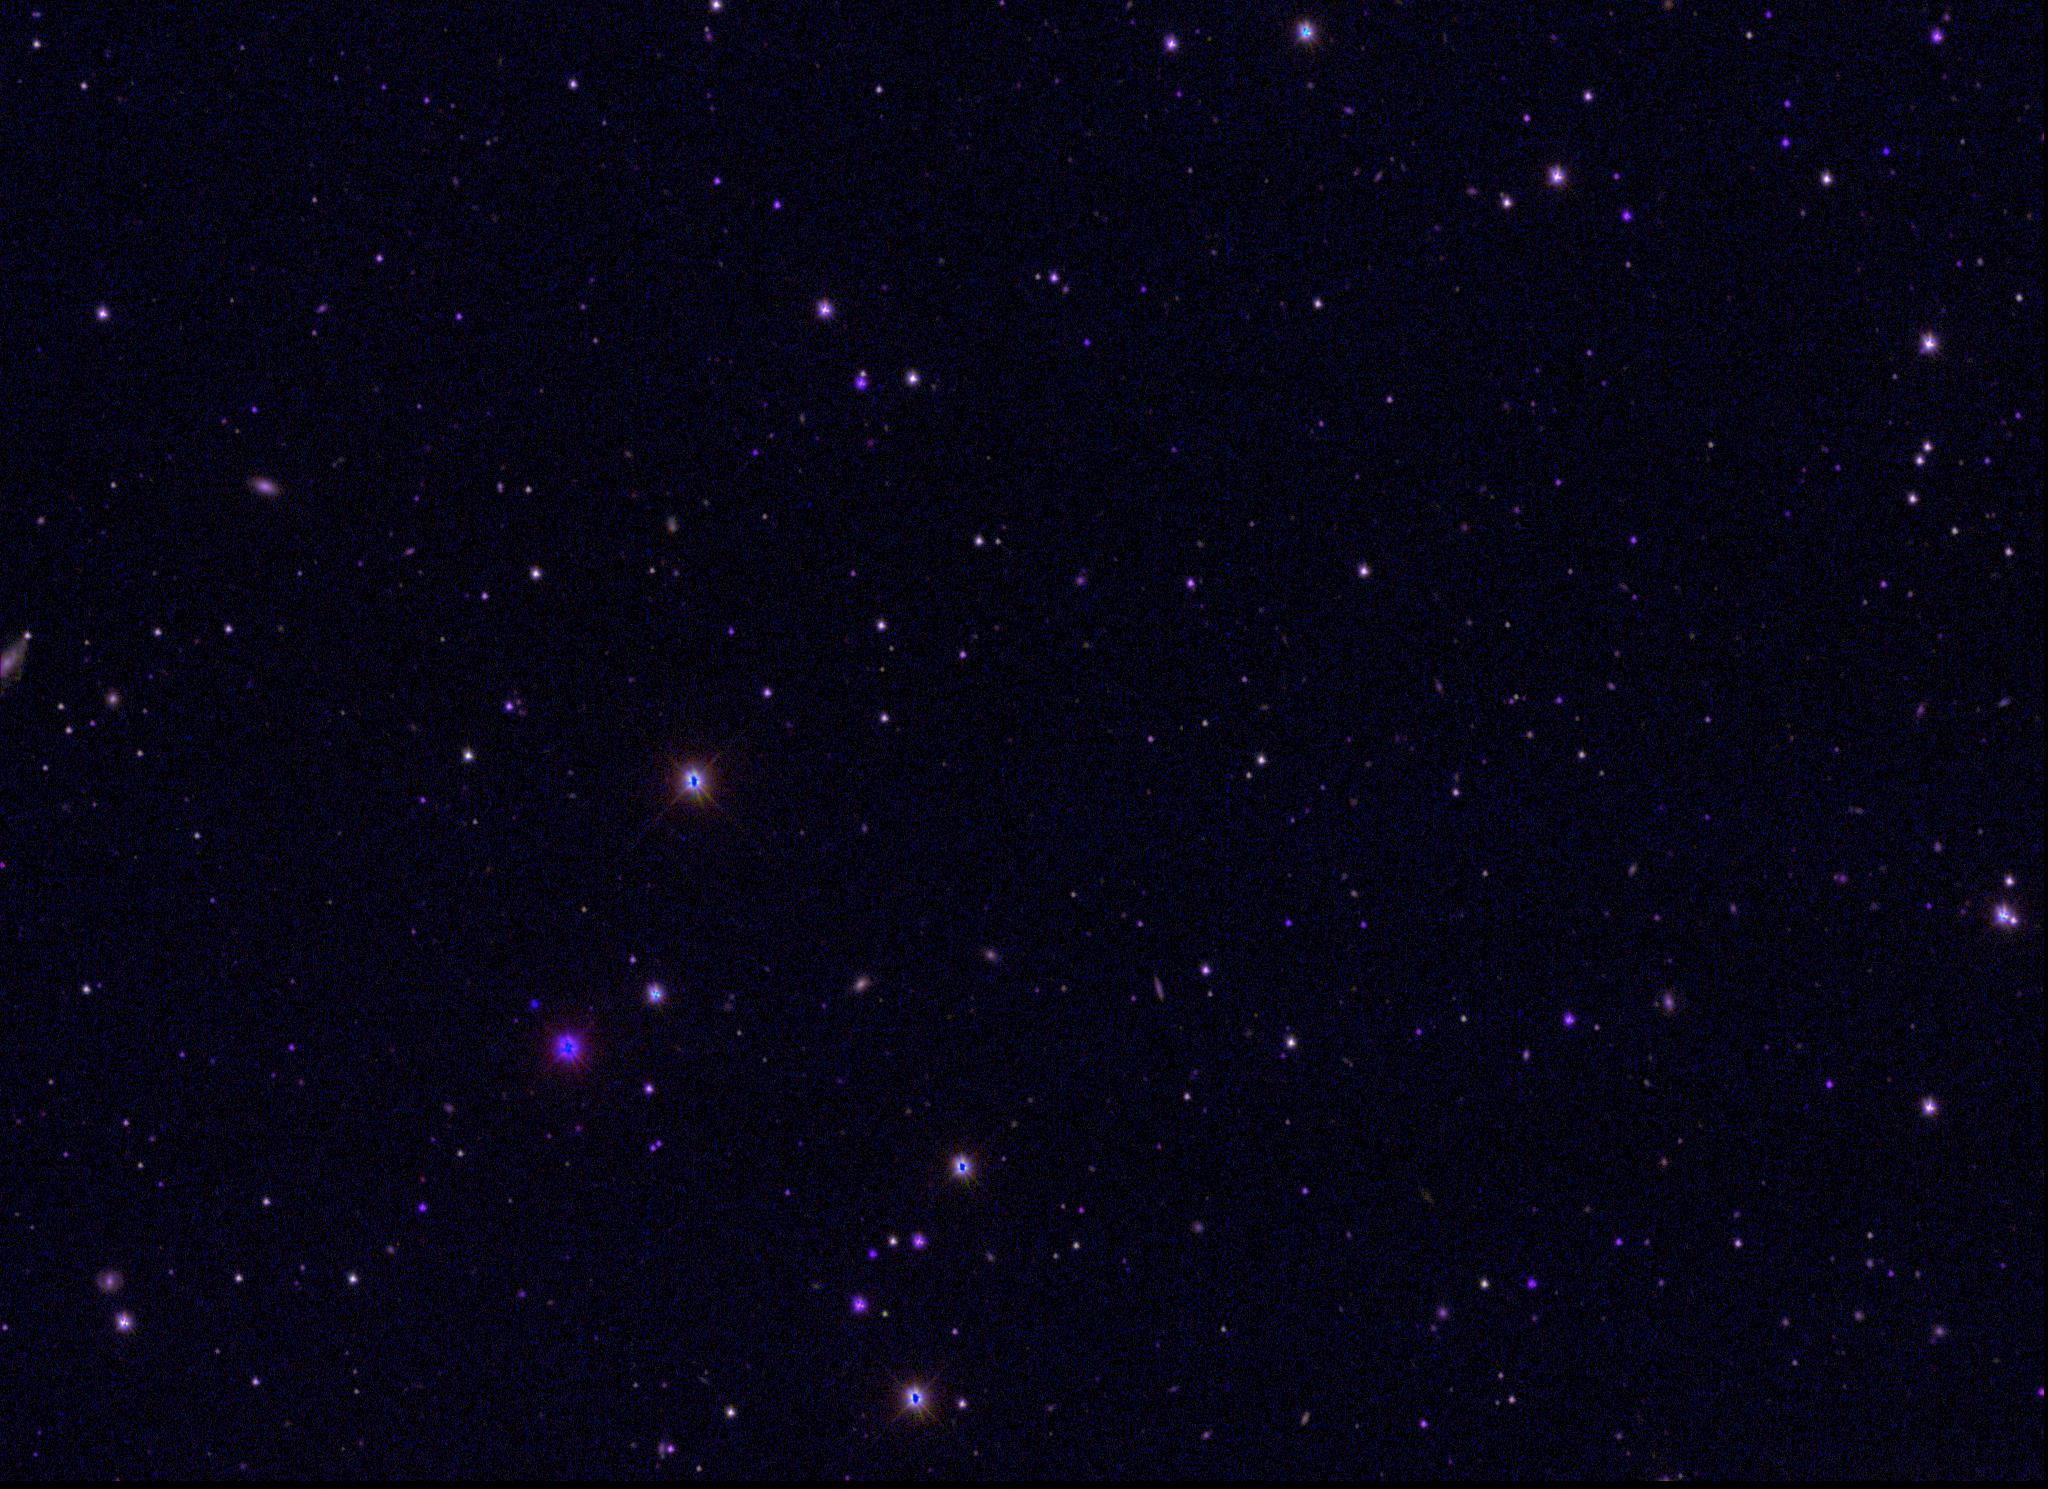L: (528, 997, 542, 1012)
